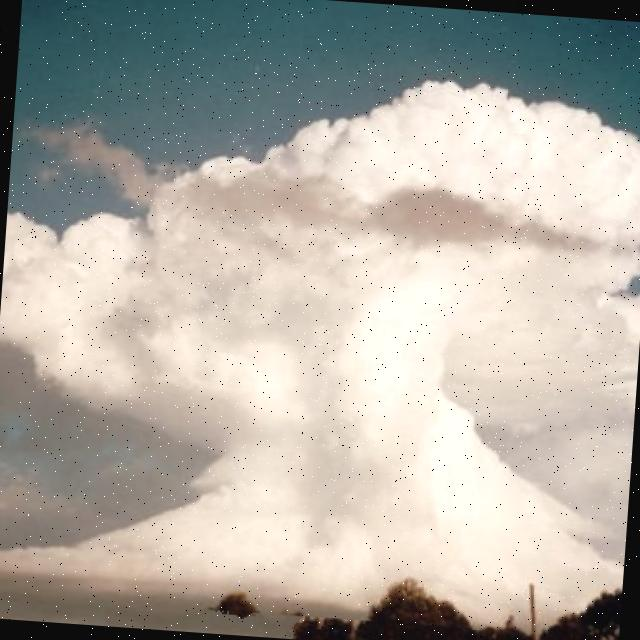Cb: (1, 45, 640, 532)
